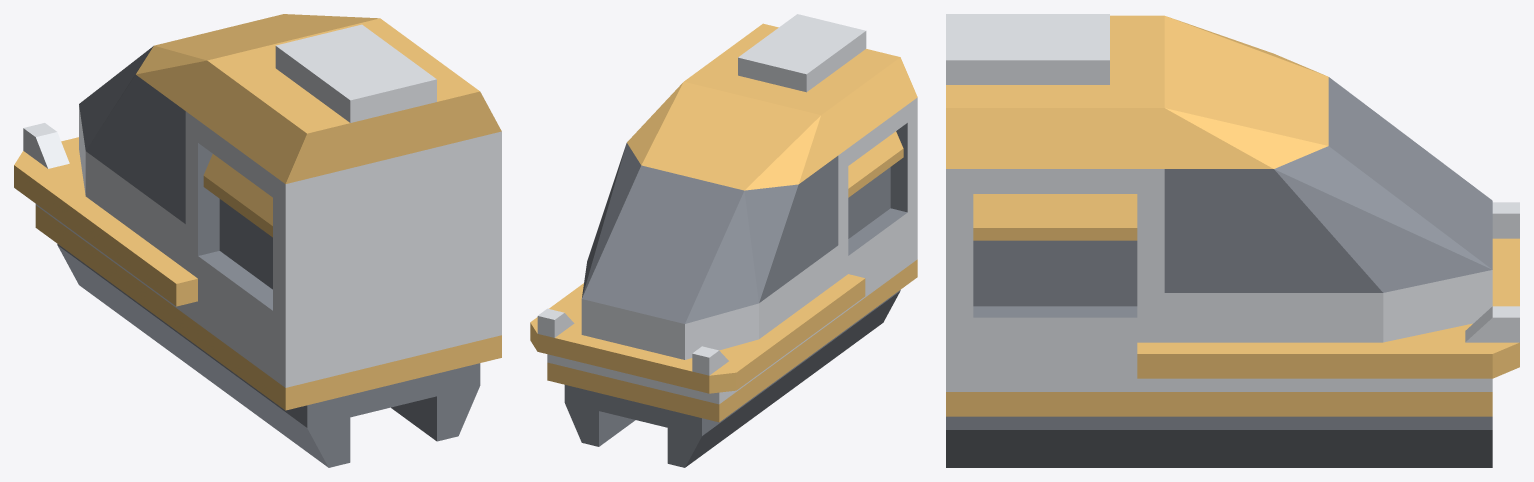
Rendered from monorail_trainFront.glb.
3 renders of one model, left to right at view 1: azimuth 30°, elevation 25°; view 2: azimuth 150°, elevation 25°; view 3: azimuth 270°, elevation 25°, orthographic. The views are drawn at different scales.
Parts seen in each view (by area): view 1: monorail_trainFront; view 2: monorail_trainFront; view 3: monorail_trainFront.
Boxes of the visible parts, x1,y1,x2,y2 form: monorail_trainFront: (14, 14, 501, 467); monorail_trainFront: (530, 14, 917, 467); monorail_trainFront: (946, 14, 1519, 467).
Bounding box in the file's own units: 0.6 × 0.8 × 1.05.
